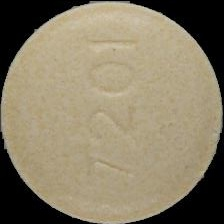0615-6556: (0, 0, 224, 224)
